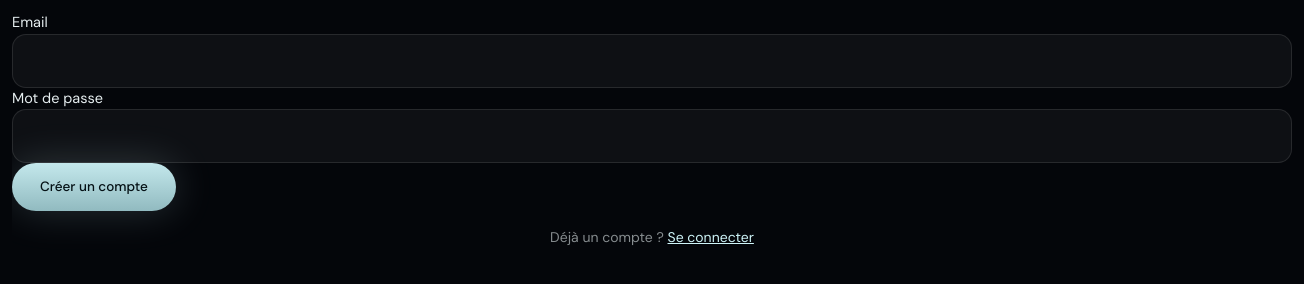
Signup › shows an error message when signUp fails
Type "ada@mimir.app" into the field labelled "Email" at (652, 61), box [12,34,1292,88]
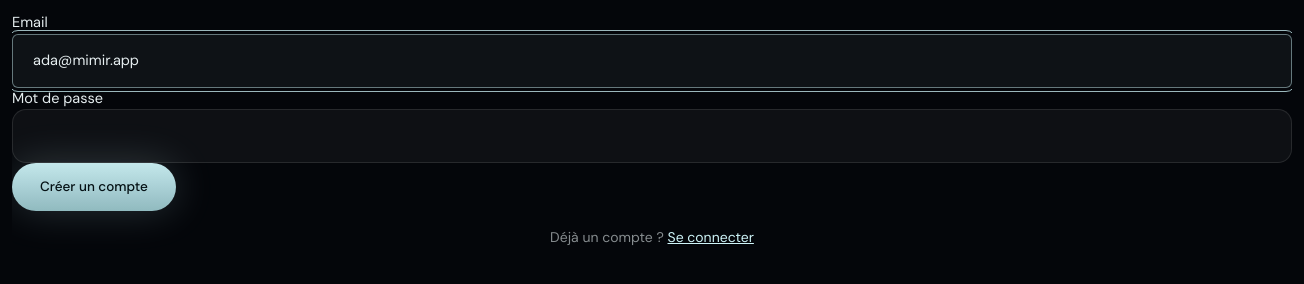
Type "motdepasse123" into the password field labelled "Mot de passe" at (652, 136), box [12,109,1292,163]
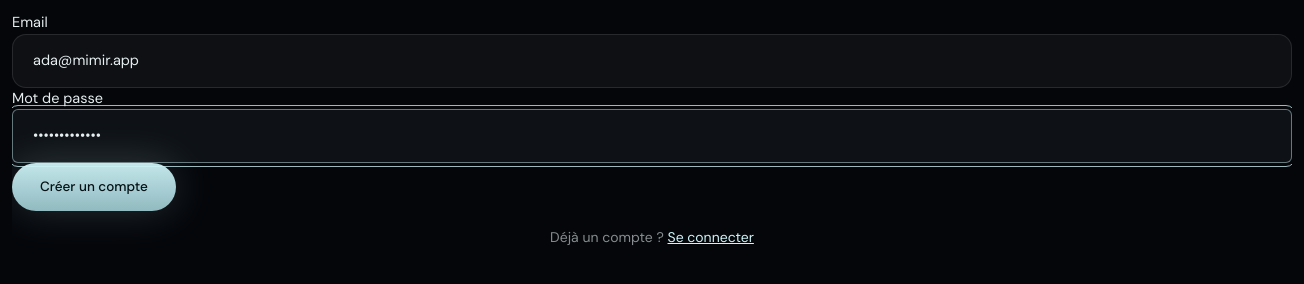
Click the button "Créer un compte" at (94, 187), box [12,163,176,211]
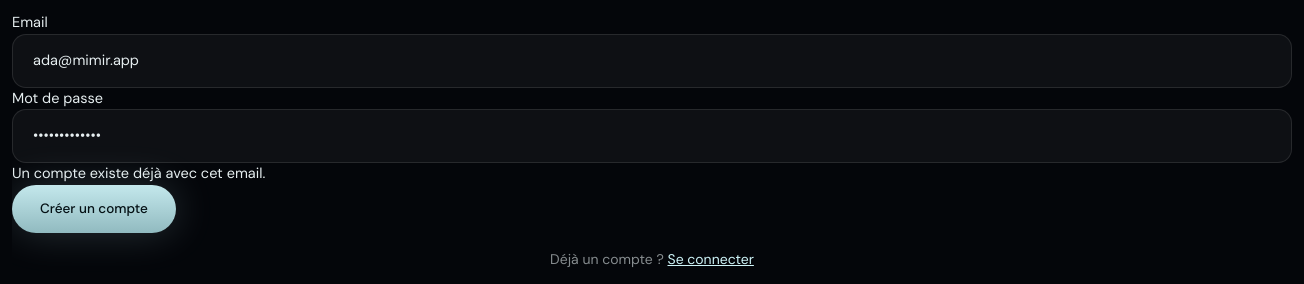
Check: the message shows "compte existe déjà", box [12,164,265,182]
